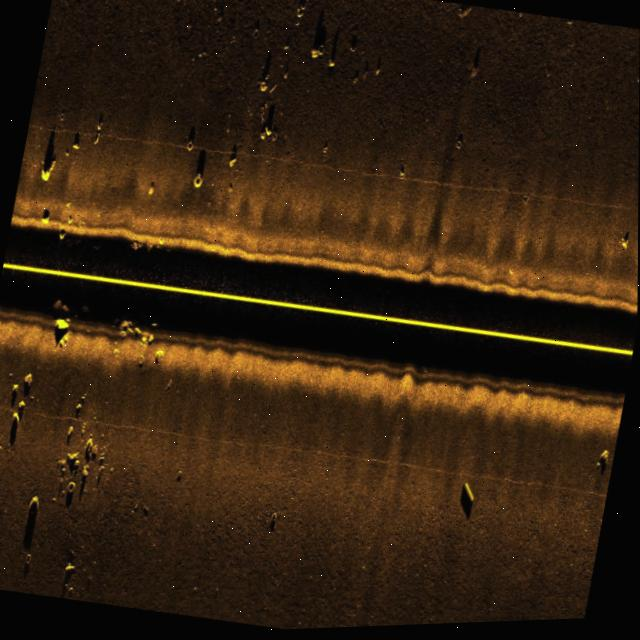mine: (454, 478, 483, 525)
other: (10, 489, 49, 579), (32, 123, 67, 187), (41, 307, 74, 357), (182, 174, 206, 200), (179, 135, 198, 159), (68, 474, 86, 491)
